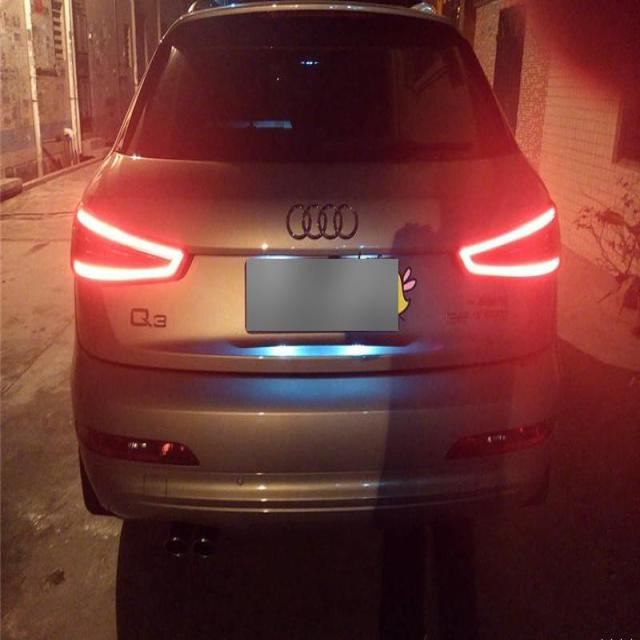back_glass: (118, 10, 520, 162)
back_left_side_light: (71, 200, 189, 288)
back_right_side_light: (456, 204, 562, 280)
rear_bumper: (70, 331, 562, 520)
